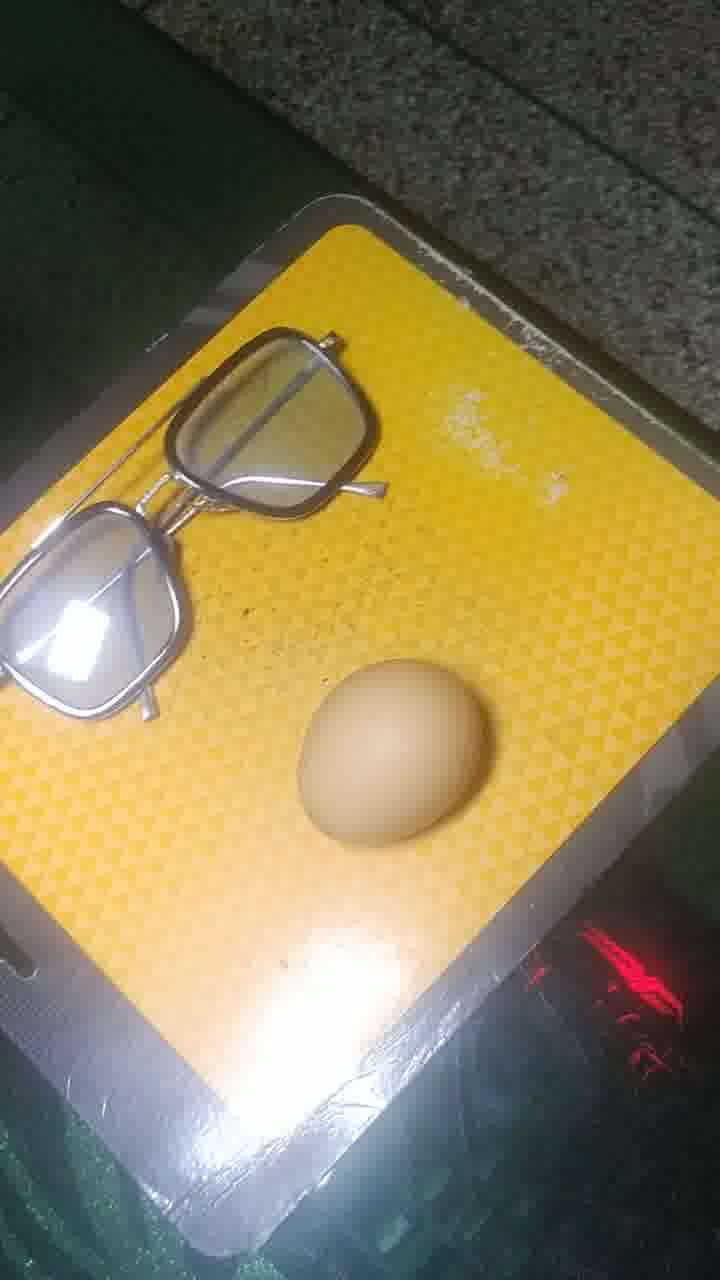egg: (291, 656, 500, 853)
sunglass: (3, 333, 377, 738)
